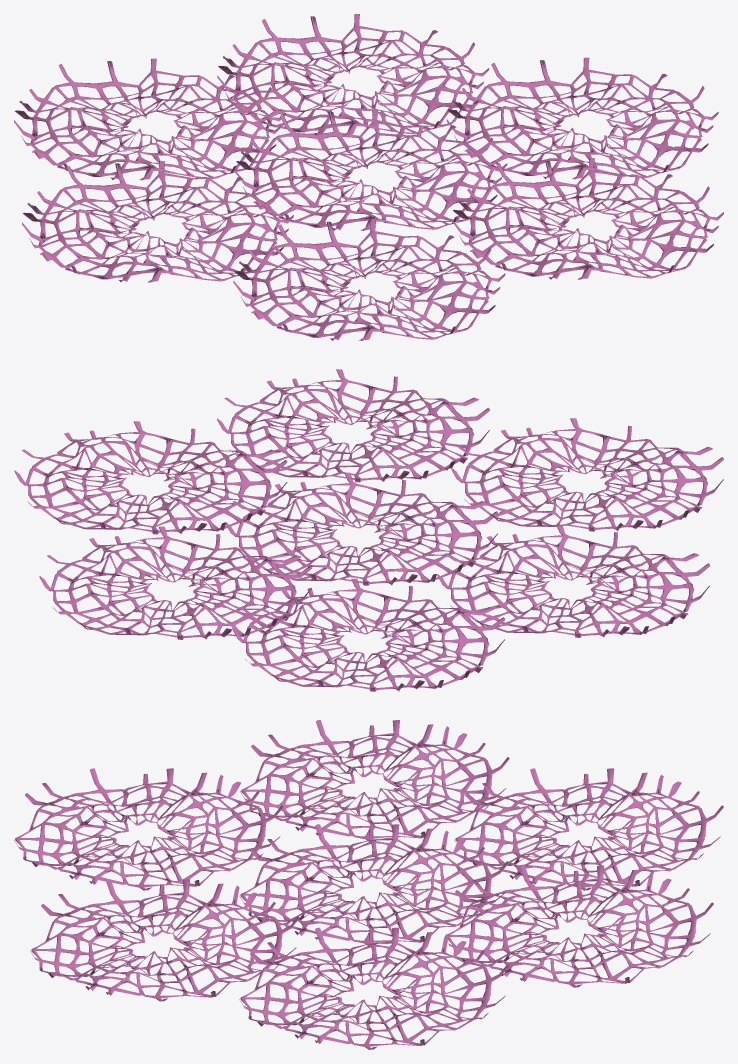
Rendered from CenarioPT2.fbx.
3 renders of one model, top to bottom at view 1: azimuth 30°, elevation 25°; view 2: azimuth 150°, elevation 25°; view 3: azimuth 270°, elevation 25°, orthographic.
Visible parts, largest first — view 1: Circle.007, Circle.006, Circle.004, Circle.005, Circle.008, Circle.009, Circle; view 2: Circle.007, Circle.005, Circle.008, Circle.009, Circle.004, Circle.006, Circle; view 3: Circle.005, Circle.007, Circle.006, Circle.009, Circle.004, Circle.008, Circle.
Boxes of the visible parts, <box> form: Circle.007: <box>233,219,505,340</box>; Circle.006: <box>452,158,723,279</box>; Circle.004: <box>22,161,293,282</box>; Circle.005: <box>446,57,718,179</box>; Circle.008: <box>14,58,285,180</box>; Circle.009: <box>217,14,489,135</box>; Circle: <box>235,109,507,230</box>; Circle.007: <box>450,418,723,531</box>; Circle.005: <box>14,421,287,534</box>; Circle.008: <box>232,578,504,691</box>; Circle.009: <box>39,526,312,639</box>; Circle.004: <box>437,525,709,637</box>; Circle.006: <box>216,369,489,482</box>; Circle: <box>225,472,497,585</box>; Circle.005: <box>239,927,508,1049</box>; Circle.007: <box>14,768,283,890</box>; Circle.006: <box>30,879,299,1001</box>; Circle.009: <box>447,865,713,987</box>; Circle.004: <box>240,720,509,841</box>; Circle.008: <box>454,768,723,890</box>; Circle: <box>239,824,508,945</box>.
Bounding box in the file's own units: 1001 × 49.44 × 921.
